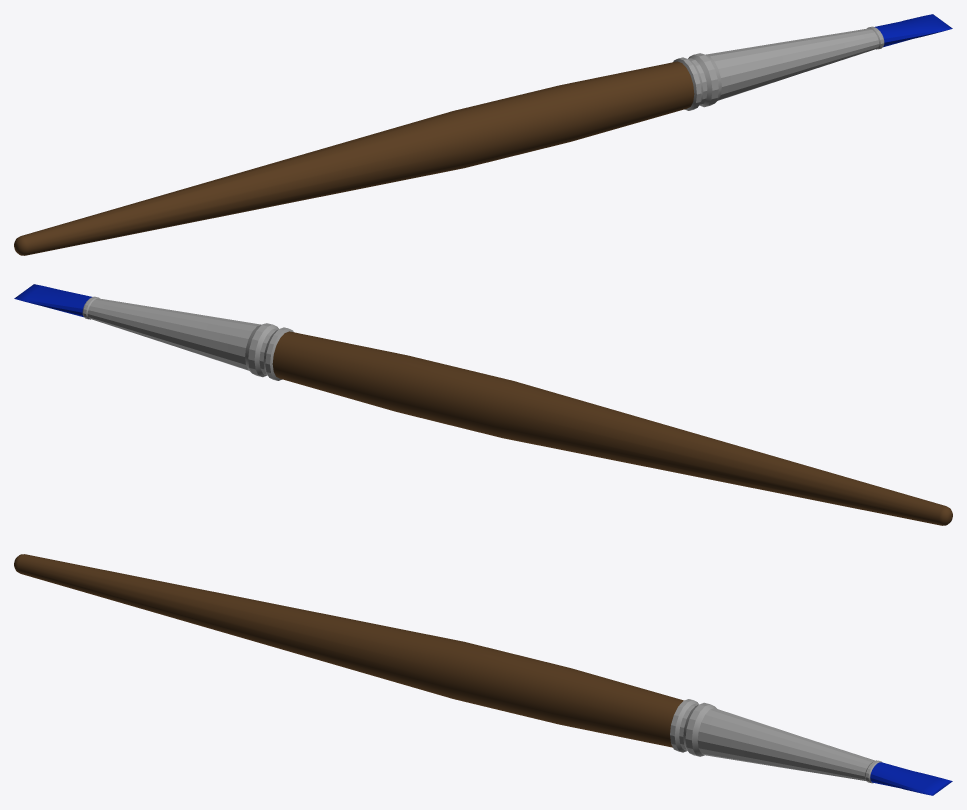
The model's file is paintbrush_03.fbx.
3 renders of one model, top to bottom at view 1: azimuth 30°, elevation 25°; view 2: azimuth 150°, elevation 25°; view 3: azimuth 330°, elevation 25°, orthographic.
Visible parts, largest first — view 1: paintbrush_03; view 2: paintbrush_03; view 3: paintbrush_03.
Boxes of the visible parts, bbox=[...] form: paintbrush_03: bbox=[14, 14, 952, 255]; paintbrush_03: bbox=[14, 284, 952, 525]; paintbrush_03: bbox=[14, 554, 952, 795].
Bounding box in the file's own units: 6.91 × 0.3781 × 0.3781.
